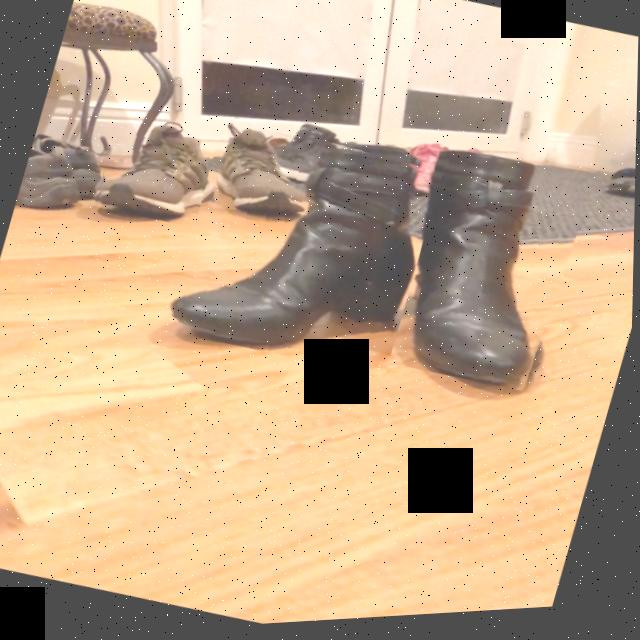shoe: (173, 152, 418, 350), (416, 162, 537, 395), (97, 136, 218, 221), (220, 126, 306, 212)
